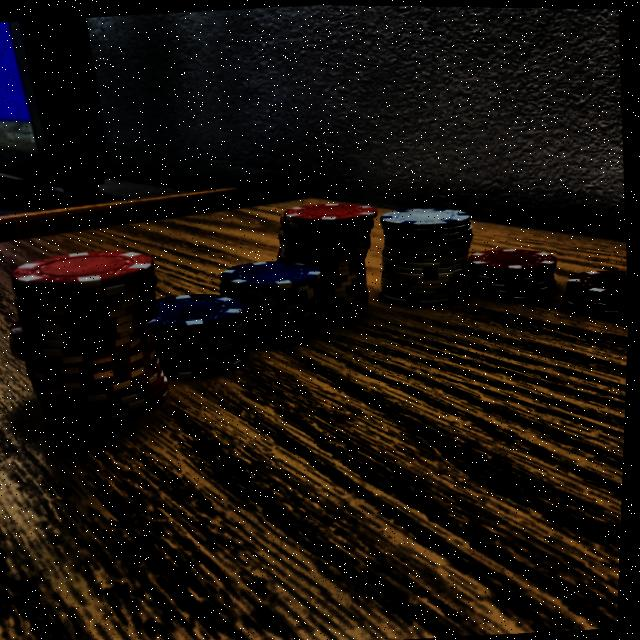Chip: (1, 221, 187, 454), (270, 193, 383, 327), (365, 191, 481, 321), (144, 281, 256, 385), (211, 247, 326, 348), (451, 234, 562, 320), (559, 261, 633, 326)
